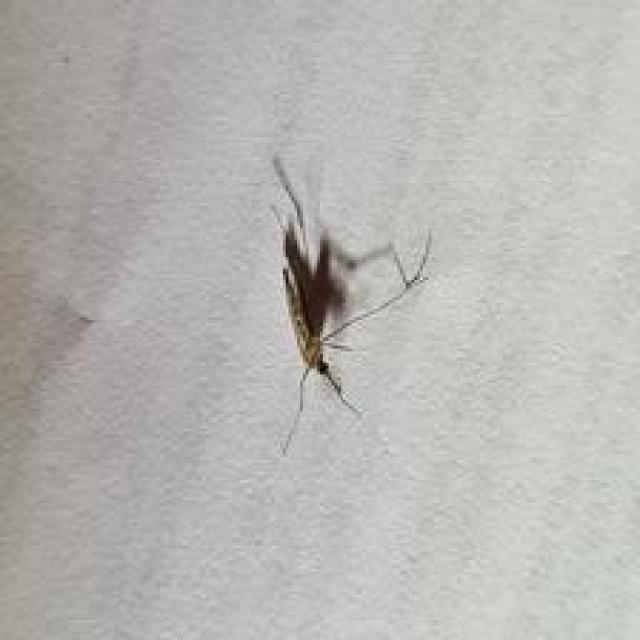Culex: (266, 150, 434, 456)
